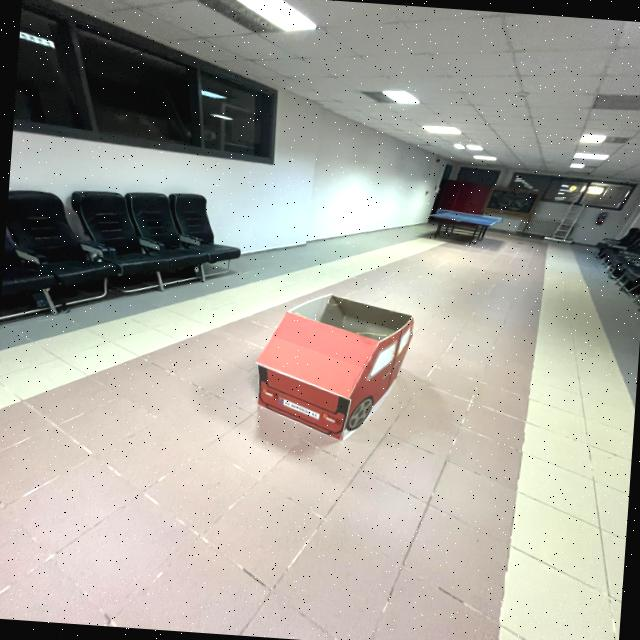red_car: (237, 275, 445, 456)
